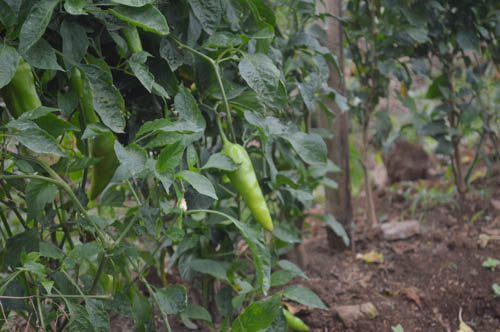ChiliPepper: (223, 146, 271, 231), (83, 137, 119, 201), (15, 68, 43, 111)
